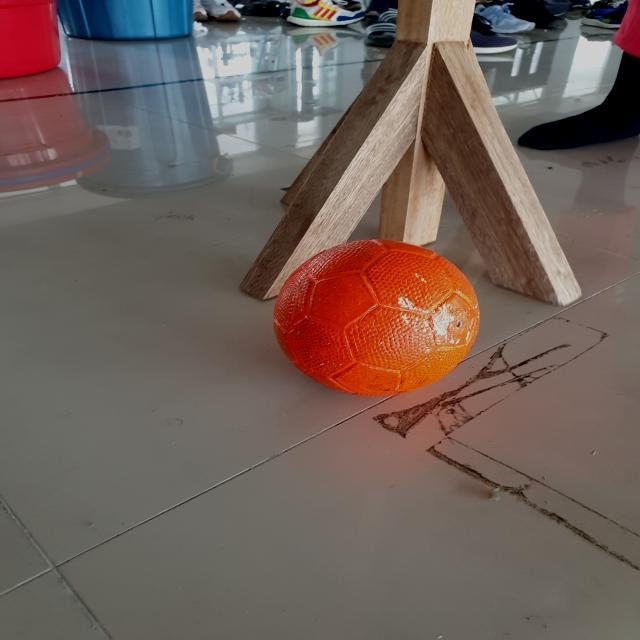bola: (271, 236, 492, 407)
